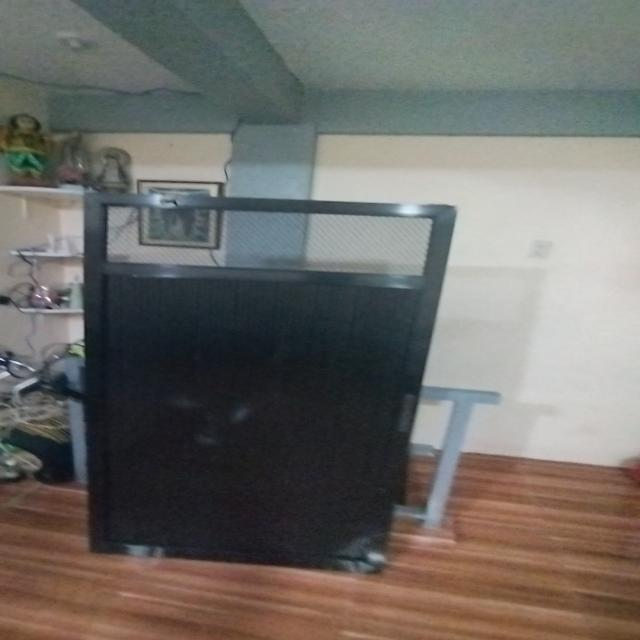door: (71, 186, 446, 572)
